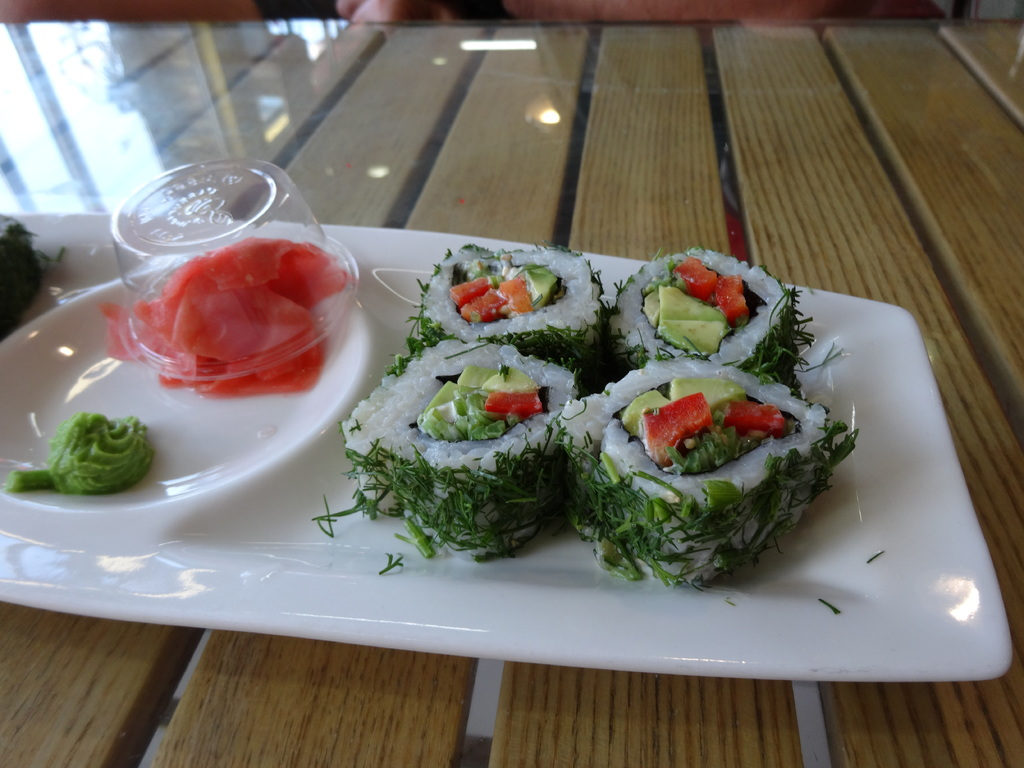salad: (616, 364, 783, 475), (634, 245, 764, 368), (411, 351, 568, 438), (440, 248, 584, 330)
